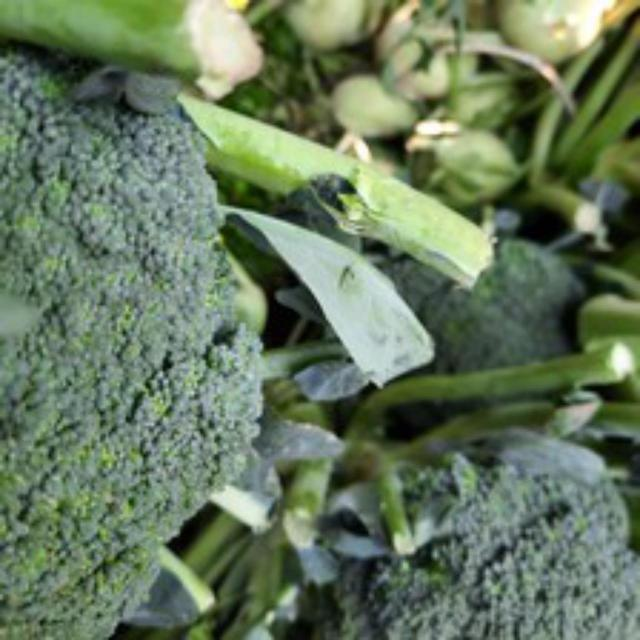broccoli: (0, 28, 288, 637)
